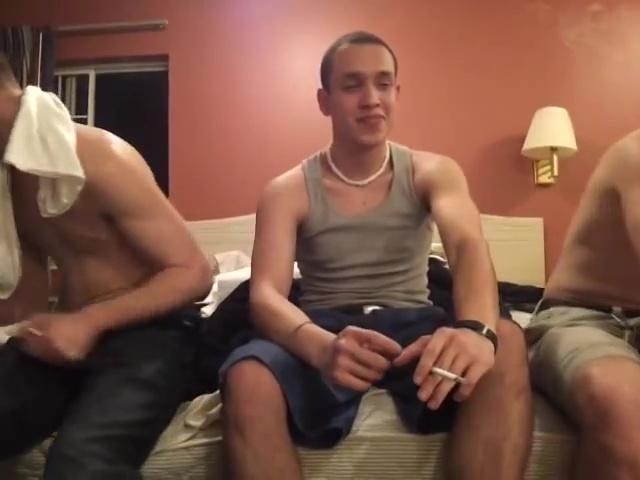cigarette: (432, 363, 471, 390)
